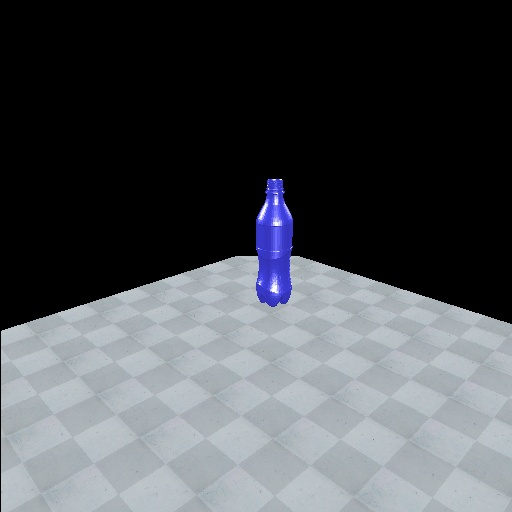bottle: (252, 174, 297, 311)
